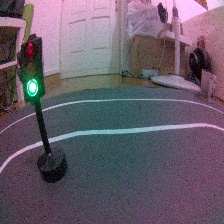green: (17, 33, 70, 185)
